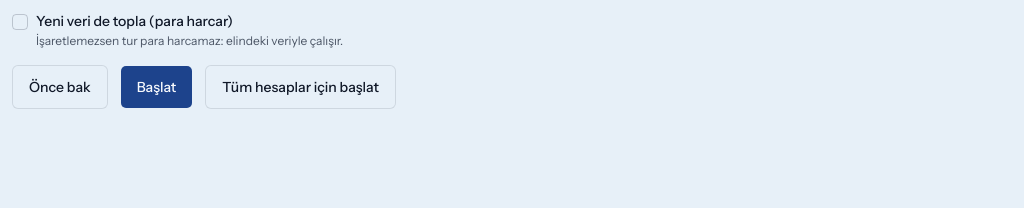
RoutineStarter: haftalık tur › 'Tüm hesaplar' KISMİ başarı: açılan, atlanan ve açılamayan sayılar + neden uyarı olarak yazılır ('Olmadı' denmez)
Step 1. Click the button "Tüm hesaplar için başlat" → (301, 87), box [205,65,396,109]
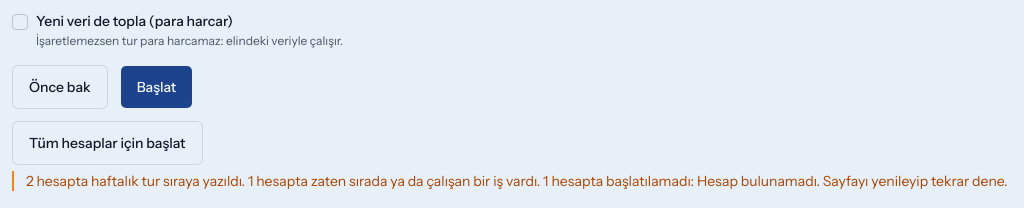
Expected: the message does not show "Olmadı", [12,171,1008,191]
Result: the message shows "2 hesapta haftalık tur sıraya yazıldı. 1 hesapta zaten sırada ya da çalışan bir iş vardı. 1 hesapta başlatılamadı: Hesap bulunamadı. Sayfayı yenileyip tekrar de" at [26,172,1008,190]
